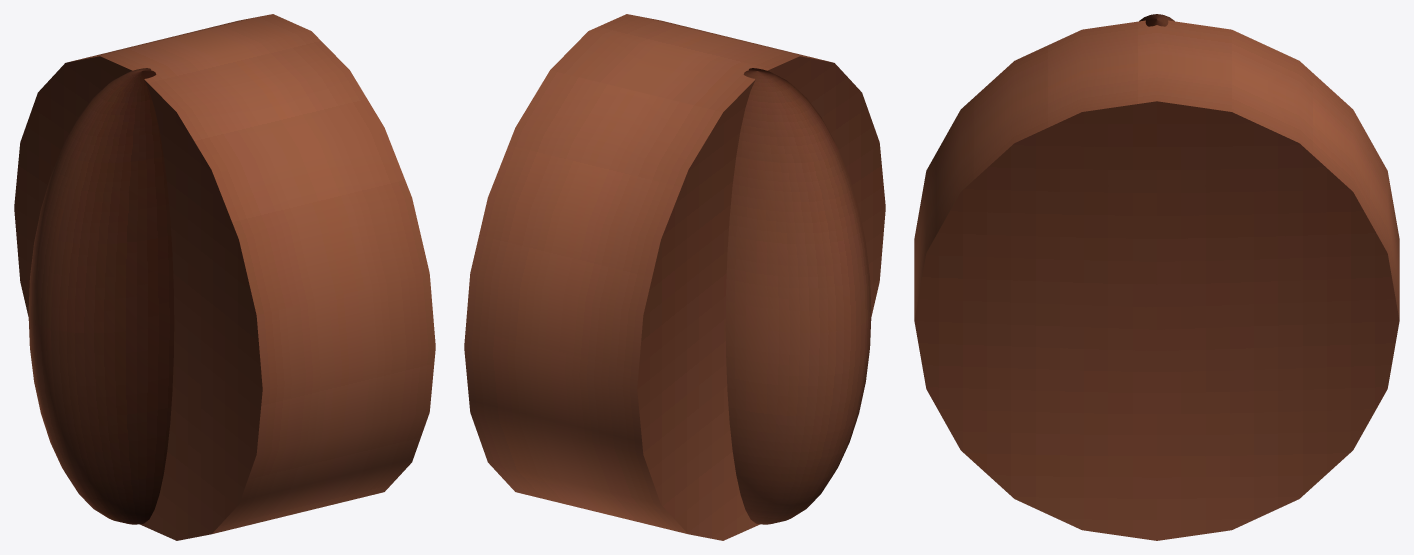
Rendered from perilla3.obj.
The picture shows the model from 3 angles, left to right: view 1: azimuth 30°, elevation 25°; view 2: azimuth 150°, elevation 25°; view 3: azimuth 270°, elevation 25°; orthographic projection. The views are drawn at different scales.
Visible parts, largest first — view 1: cuarto:cuarto:polySurface11601; view 2: cuarto:cuarto:polySurface11601; view 3: cuarto:cuarto:polySurface11601.
Part boxes in pixels (x1,y1,x2,y2): cuarto:cuarto:polySurface11601: [14, 14, 435, 540]; cuarto:cuarto:polySurface11601: [464, 14, 885, 540]; cuarto:cuarto:polySurface11601: [914, 14, 1399, 540].
Size of the model in its own units: 0.0965 by 0.1503 by 0.1498.
Materials: 1 (1 with a texture image).
